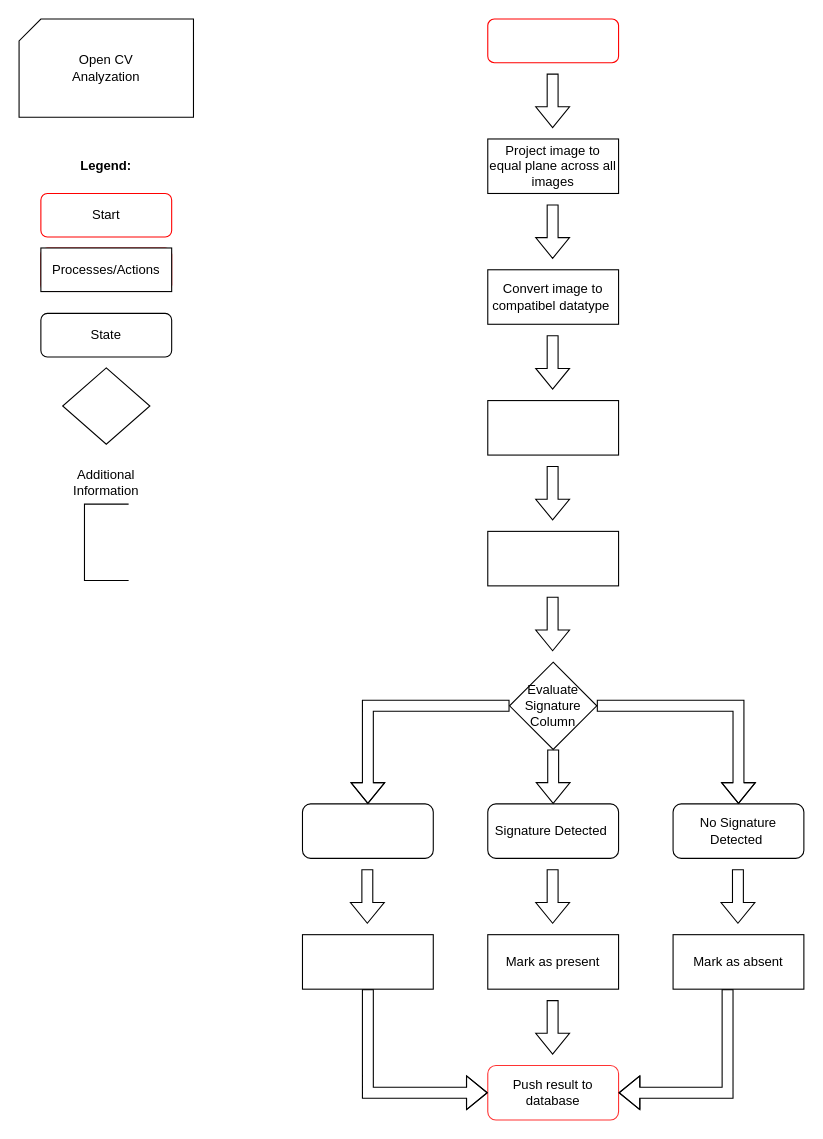
Some shapes in this 823 by 1139 pixel diagram are drawn without their labels. The box of each missing label's shape, as (x1, y1, x2, y2) in pixels:
Decisions: (62, 367, 150, 444)
Opening the attachement image: (487, 18, 619, 63)
Recognize "Name(Druckschrift)" Columns: (487, 530, 619, 586)
Seperate data into rows, columns: (487, 399, 619, 455)
Signature isn't unambigous(eindeutig): (301, 803, 433, 858)
User Intervention: (301, 934, 433, 989)
